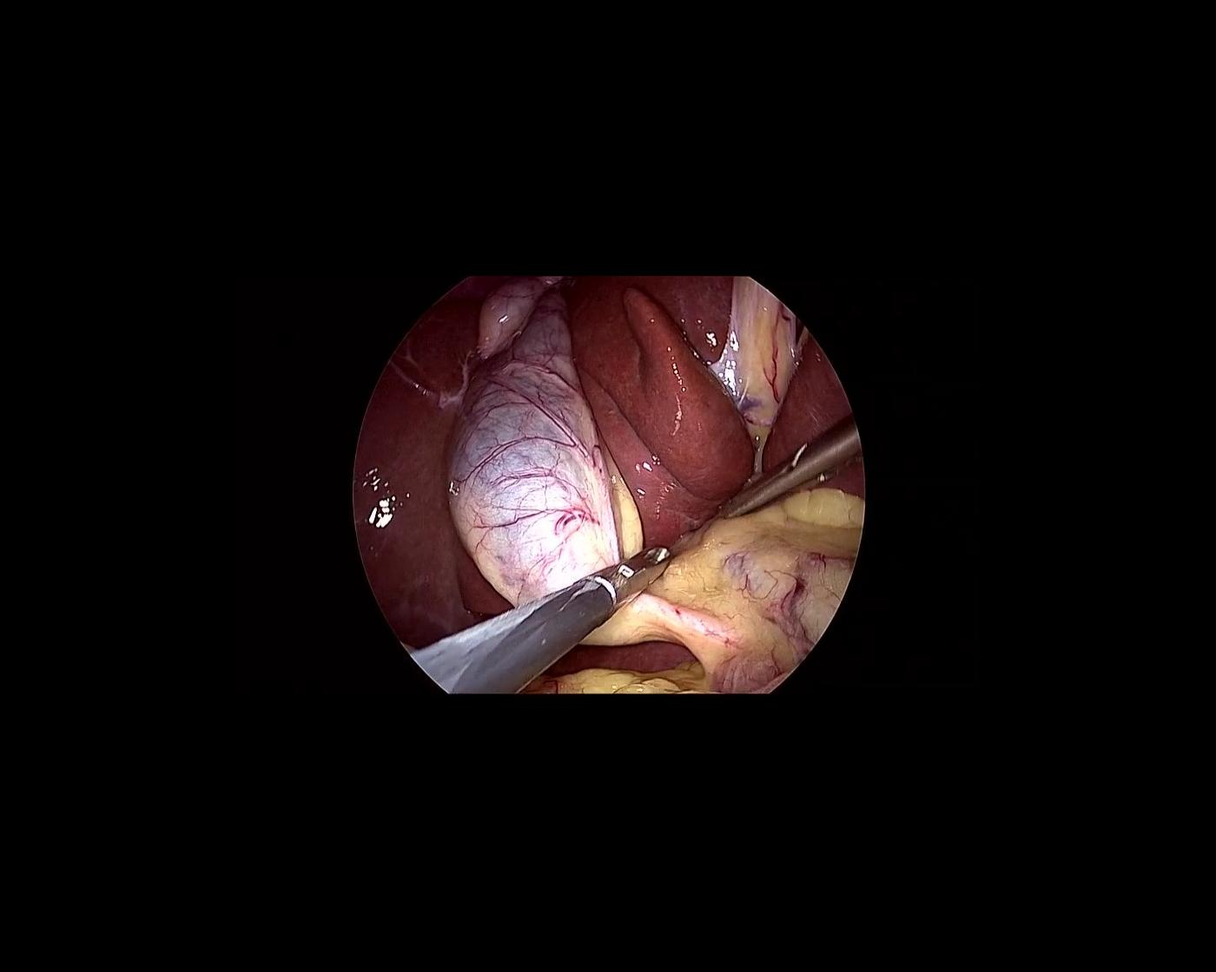Forceps: (413, 484, 682, 730), (710, 414, 871, 536)
Gallbladder: (396, 269, 650, 617)
Liver: (570, 262, 763, 553), (352, 279, 504, 644)
